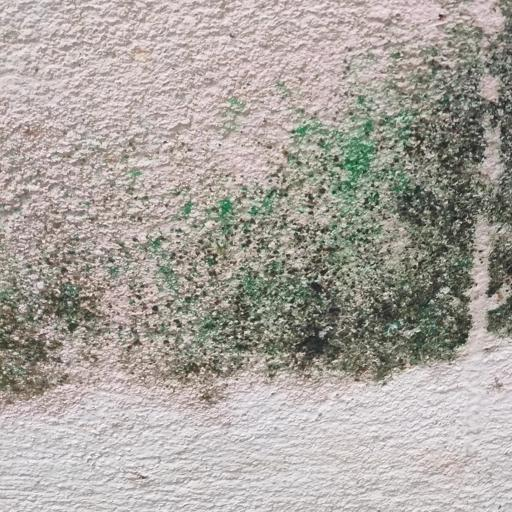algae: (1, 59, 512, 406)
